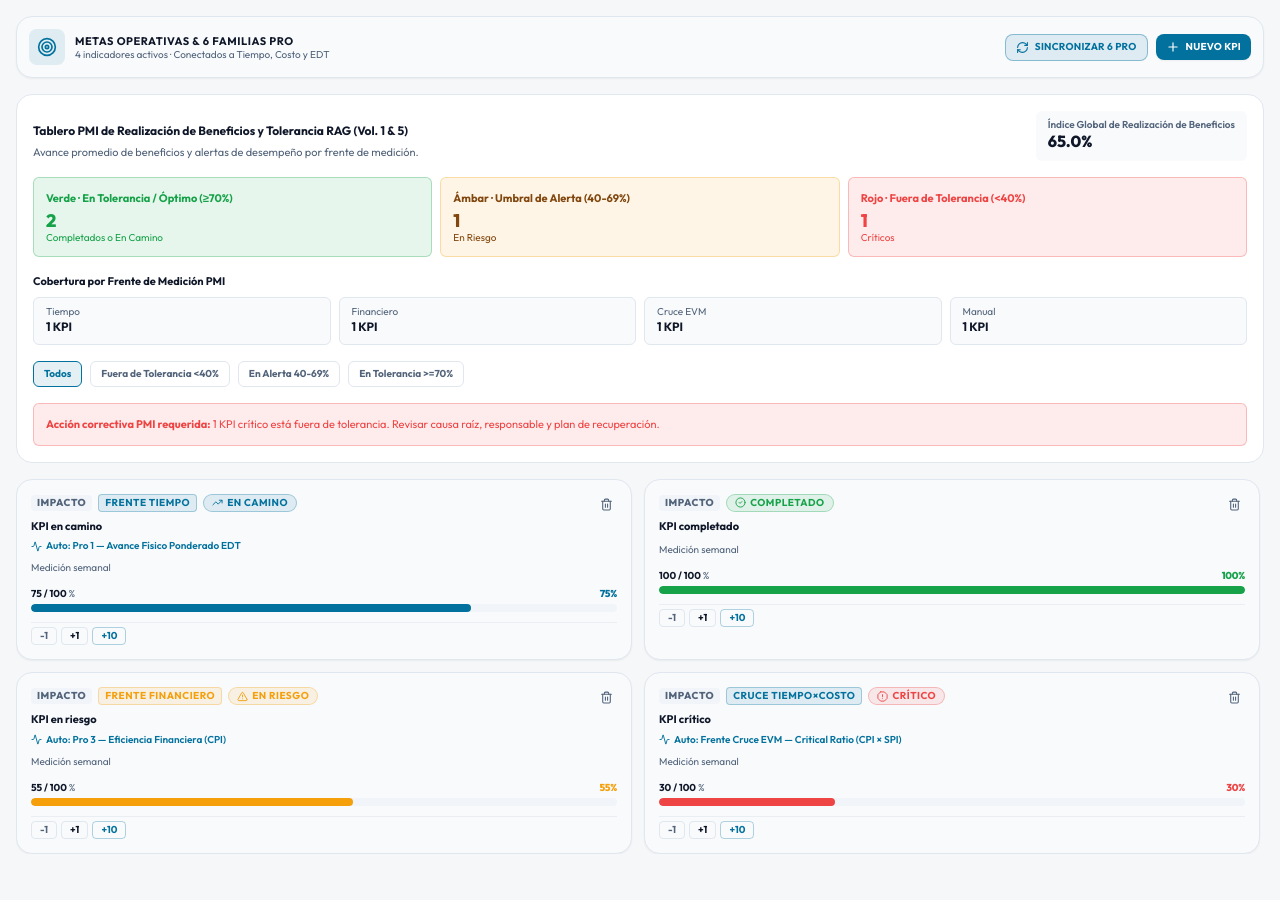
it: ProjectKpiDrawer deletion › renders benefits realization, RAG counts and filters KPIs by tolerance threshold
The image size is (1280, 900).
Expected: the heading "Tablero PMI de Realización de Beneficios y Tolerancia RAG (Vol. 1 & 5)" is shown, [33,122,419,140]
Expected: the text "65.0%" is shown, [1048,131,1092,151]
Click the button "Fuera de Tolerancia <40%".
click(160, 374)  # box [90,361,230,387]
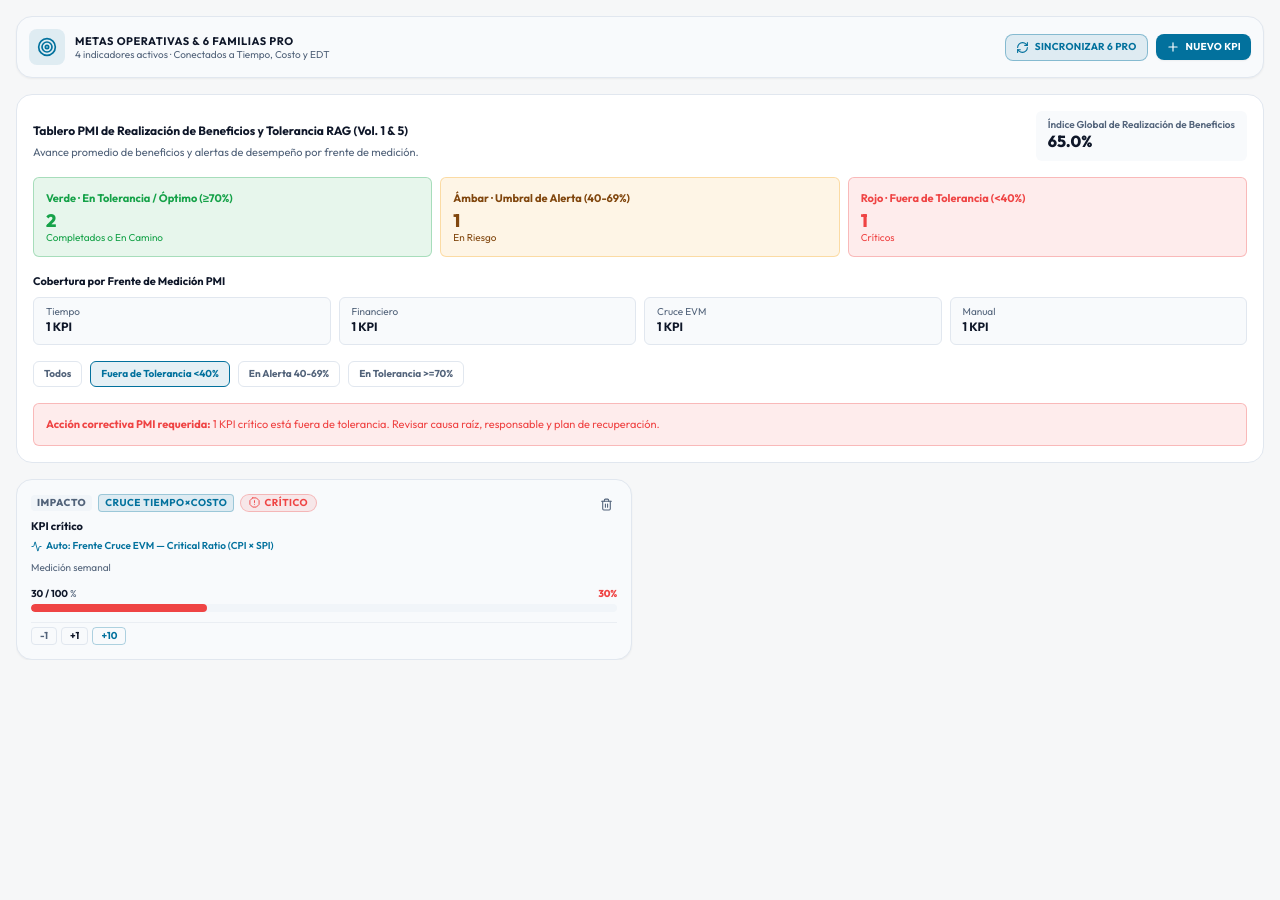
Expected: the heading "KPI crítico" is shown, [31,519,83,533]
Result: the heading "KPI en camino" is gone
Result: the heading "KPI en riesgo" is gone
Click the button "En Alerta 40-69%".
click(289, 374)  # box [238,361,340,387]
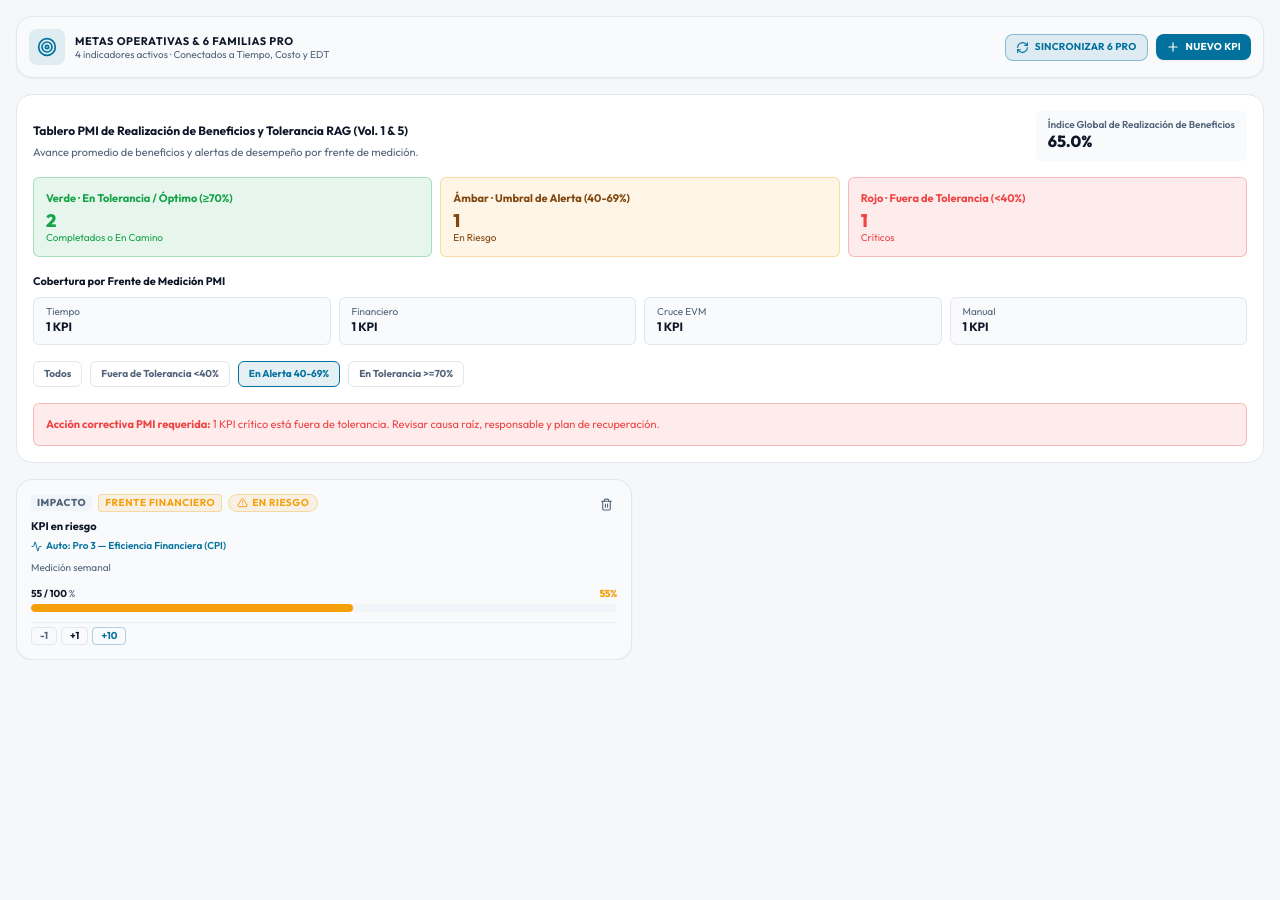
Result: the heading "KPI en riesgo" is shown at [31,519,96,533]
